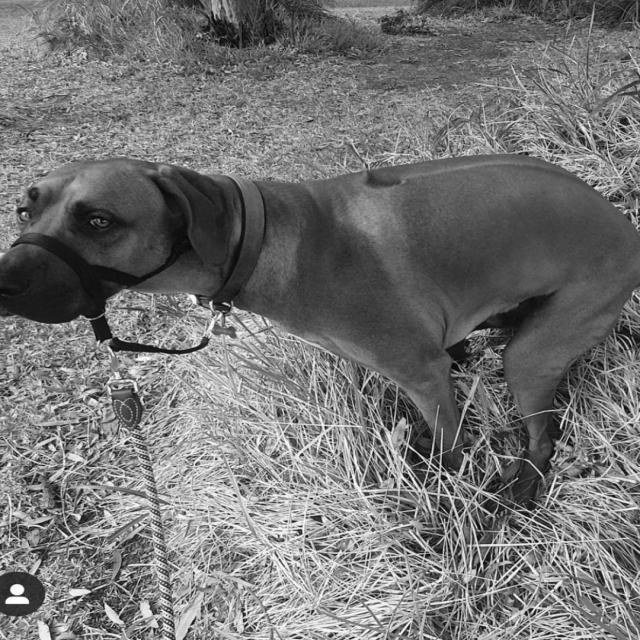squatting: (0, 147, 640, 518)
